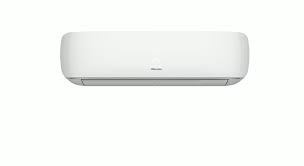ac: (59, 28, 253, 92)
